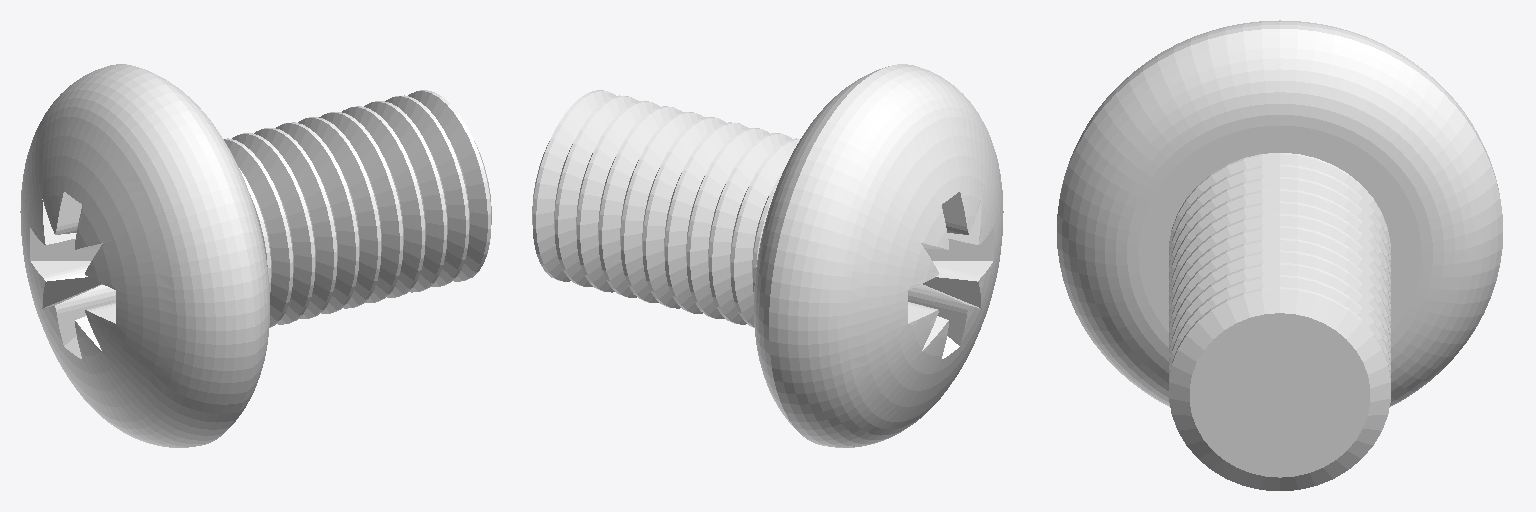
The robot description file, URDF, robot "m23screw.urdf":
<?xml version="1.0" ?>
<robot name="m23screw.urdf">
  <link name="baseLink">
    <contact>
    	<friction_anchor/>
    	   <lateral_friction value="0.5"/>
        <rolling_friction value="0.005"/>
        <spinning_friction value="0.005"/>
    </contact>
    <inertial>
      <origin rpy="0 0 0" xyz="1.76E-3 0 0"/>
       <mass value="1E-3"/>
       <inertia ixx="2.1E-7" ixy="0" ixz="0" iyy="3.5E-7" iyz="0" izz="3.5E-7"/>
    </inertial>
    <visual>
      <origin rpy="0 0 0" xyz="0 0 0"/>
      <geometry>
				<mesh filename="m2_3_screw.obj" scale=".01 .01 .01"/>
      </geometry>
       <material name="white">
        <color rgba="1 1 1 1"/>
      </material>
    </visual>
    <collision>
      <origin rpy="0 0 0" xyz="0 0 0"/>
      <geometry>
	 <mesh filename="m2_3_screw.obj" scale=".01 .01 .01"/>
      </geometry>
    </collision>
  </link>
</robot>

--- Render facts (derived) ---
3 views of the same robot in one strip: view 1: azimuth 30°, elevation 25°; view 2: azimuth 150°, elevation 25°; view 3: azimuth 270°, elevation 25° (orthographic).
Model m23screw.urdf with 1 links and 0 joints (none), rooted at baseLink, posed every joint at zero.
Links seen in each view (by area): view 1: baseLink; view 2: baseLink; view 3: baseLink.
Link boxes in pixels (x1=…): baseLink: x1=20, y1=64, x2=491, y2=447; baseLink: x1=532, y1=64, x2=1003, y2=447; baseLink: x1=1057, y1=20, x2=1502, y2=490.
Size in the robot's own frame: 0.0457 by 0.04 by 0.04 metres.
1 mesh visuals loaded from 1 distinct referenced files (1 OBJ).